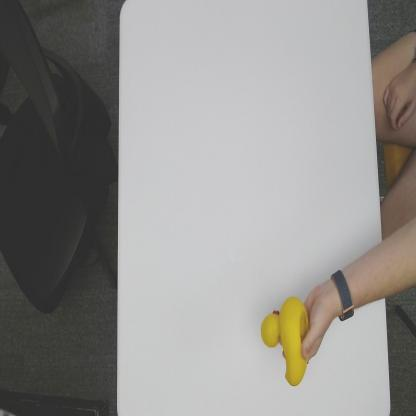Arm: (354, 240, 385, 309)
Duck: (262, 292, 311, 390)
Hand: (301, 284, 334, 365)
